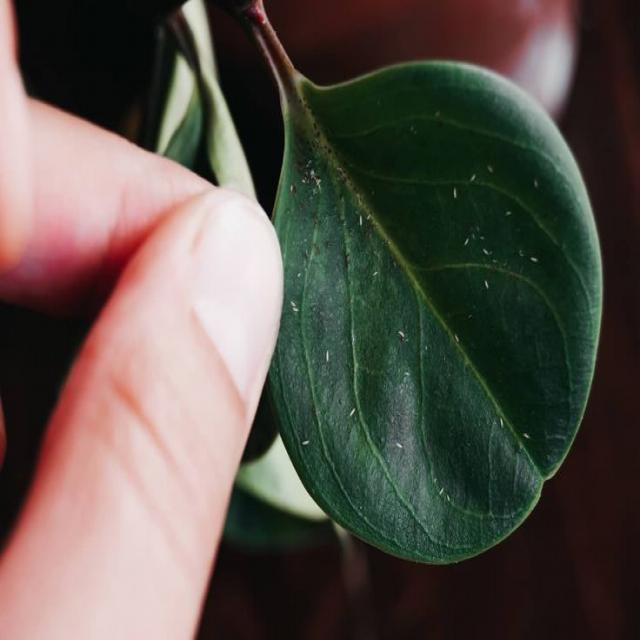Thrip-Group-: (286, 133, 559, 465)
Thrip-Larva-: (393, 434, 407, 455), (528, 249, 542, 268), (519, 429, 534, 445), (466, 171, 481, 185), (498, 409, 506, 433), (480, 276, 492, 292), (396, 324, 406, 342), (323, 343, 330, 367), (358, 209, 366, 230), (347, 404, 357, 419), (299, 436, 312, 447), (452, 180, 458, 202), (461, 235, 471, 248), (453, 330, 461, 346)
